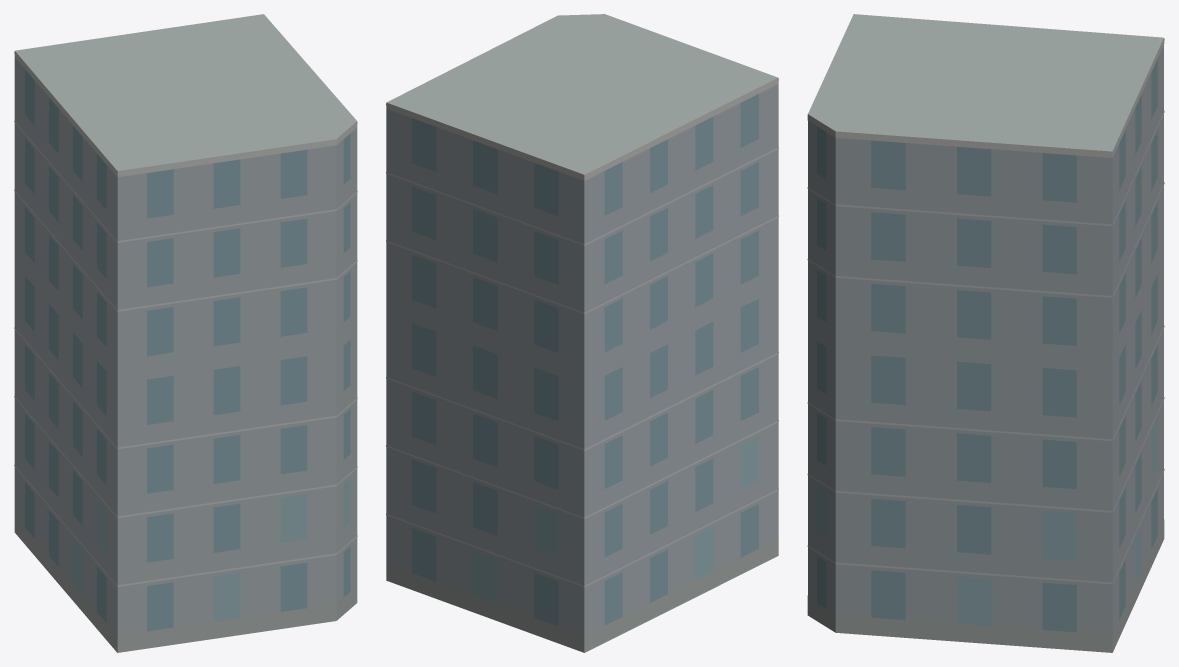
Rendered from survey-upis-32797474.glb.
3 renders of one model, left to right at view 1: azimuth 30°, elevation 25°; view 2: azimuth 150°, elevation 25°; view 3: azimuth 270°, elevation 25°, orthographic. The views are drawn at different scales.
Visible parts, largest first — view 1: survey-upis-32797474.tmp; view 2: survey-upis-32797474.tmp; view 3: survey-upis-32797474.tmp.
Part boxes in pixels (<box>): survey-upis-32797474.tmp: <box>14,14,357,652</box>; survey-upis-32797474.tmp: <box>386,14,778,652</box>; survey-upis-32797474.tmp: <box>807,14,1164,652</box>.
Bounding box in the file's own units: 11.21 × 19 × 12.26.
